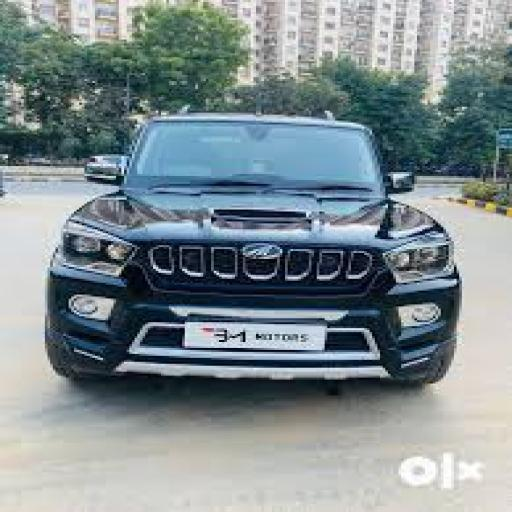car: (36, 96, 482, 402)
